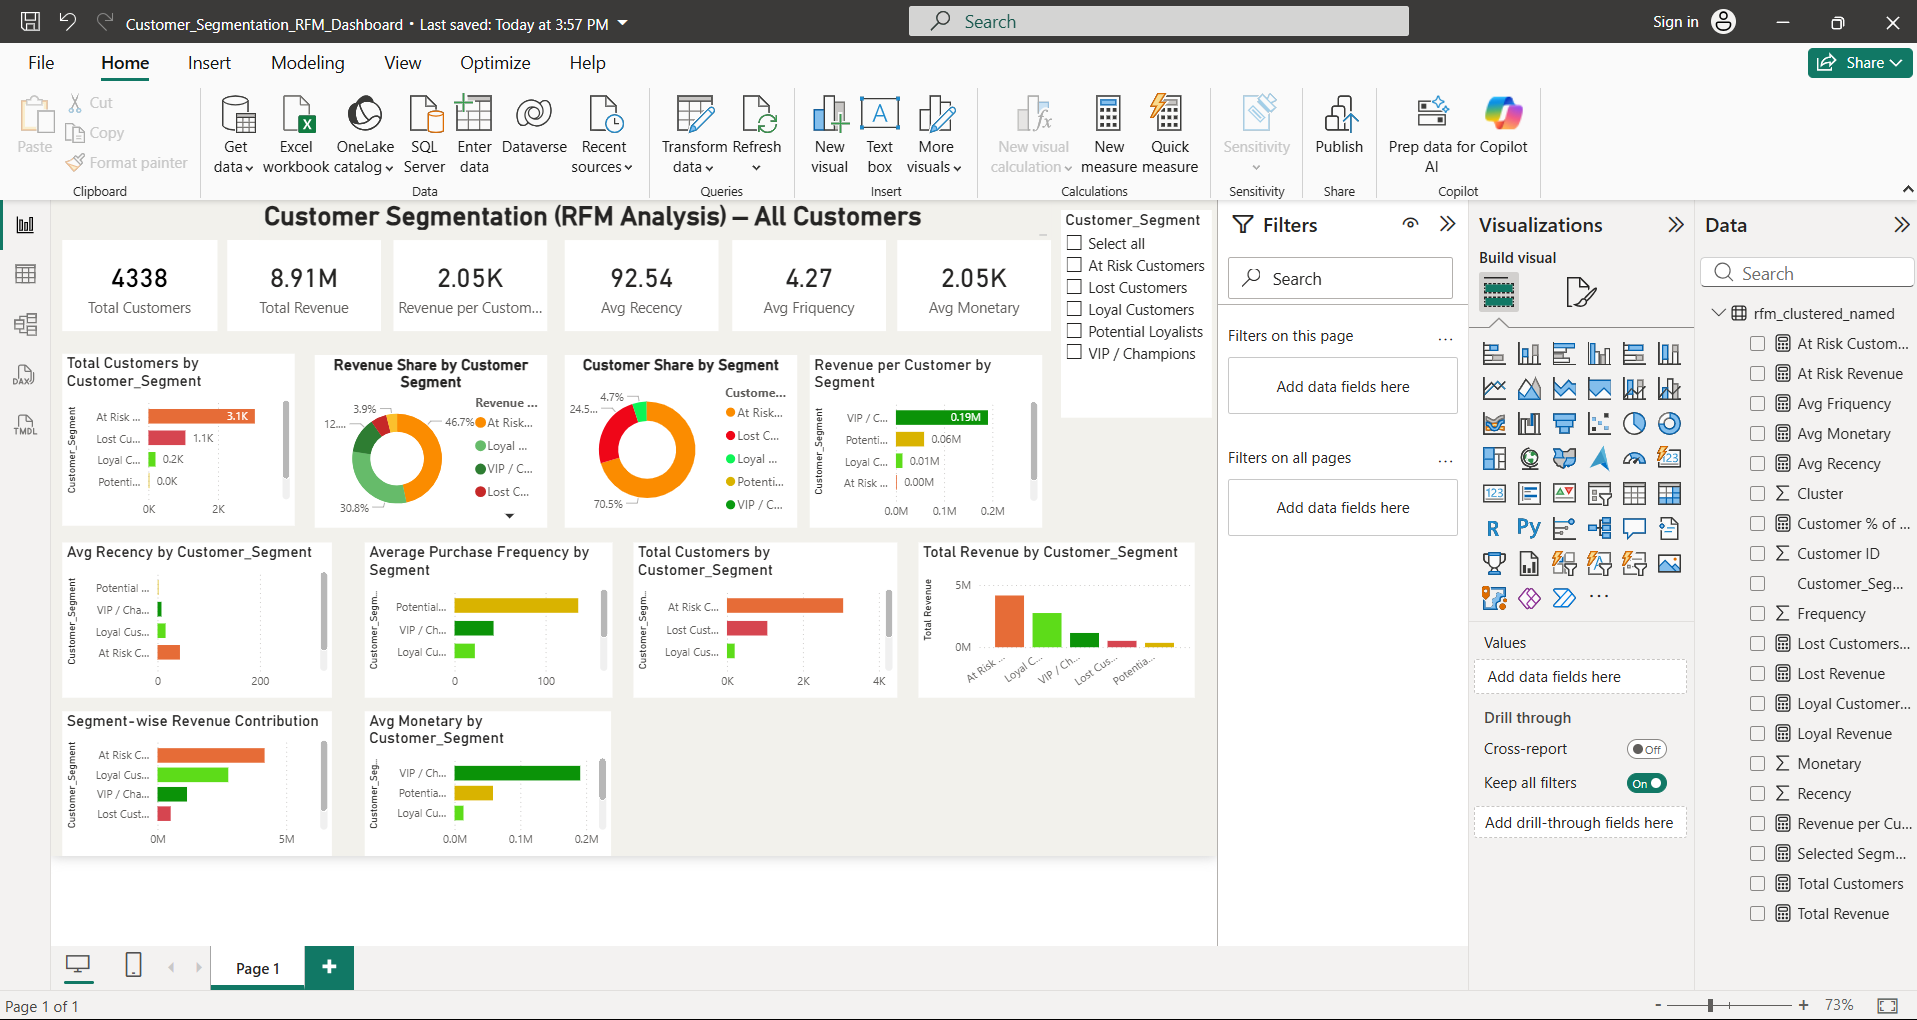

Layout of this report page (visuals, bound fields, positions):
{"tool":"powerbi","page":{"name":"Page 1","canvas":[1280,720],"ordinal":0},"visuals":[{"type":"card","fields":{"Values":["rfm_clustered_named.Total Customers"]},"box":[12.3,43.9,170.2,100.2],"z":0},{"type":"card","fields":{"Values":["rfm_clustered_named.Total Revenue"]},"box":[193.5,43.9,168.8,100.2],"z":1000},{"type":"card","fields":{"Values":["rfm_clustered_named.Avg Recency"]},"box":[564,43.9,168.8,100.2],"z":2000},{"type":"clusteredBarChart","fields":{"Category":["rfm_clustered_named.Customer_Segment"],"Y":["rfm_clustered_named.Total Customers"]},"box":[12.3,168.8,255,189],"z":3000},{"type":"clusteredBarChart","title":"Segment-wise Revenue Contribution","fields":{"Category":["rfm_clustered_named.Customer_Segment"],"Y":["rfm_clustered_named.Total Revenue"]},"box":[12.3,561.2,296.4,159.2],"z":4000},{"type":"card","fields":{"Values":["rfm_clustered_named.Avg Friquency"]},"box":[747.9,43.9,168.8,100.2],"z":5000},{"type":"clusteredBarChart","fields":{"Category":["rfm_clustered_named.Customer_Segment"],"Y":["rfm_clustered_named.Avg Monetary"]},"box":[344.4,561.2,270.3,159.2],"z":6000},{"type":"donutChart","title":"Revenue Share by Customer Segment","fields":{"Category":["rfm_clustered_named.Customer_Segment"],"Y":["rfm_clustered_named.Total Revenue"]},"box":[289.5,170.2,255.2,189.4],"z":7000},{"type":"card","fields":{"Values":["rfm_clustered_named.Revenue per Customer"]},"box":[376,43.9,168.8,100.2],"z":8000},{"type":"clusteredBarChart","title":"Revenue per Customer by Segment","fields":{"Category":["rfm_clustered_named.Customer_Segment"],"Y":["rfm_clustered_named.Revenue per Customer"]},"box":[832.9,170.2,255.2,189.4],"z":9000},{"type":"clusteredBarChart","fields":{"Category":["rfm_clustered_named.Customer_Segment"],"Y":["rfm_clustered_named.Avg Recency"]},"box":[12.3,376,296.4,170.2],"z":10000},{"type":"clusteredBarChart","title":"Average Purchase Frequency by Segment","fields":{"Category":["rfm_clustered_named.Customer_Segment"],"Y":["rfm_clustered_named.Avg Friquency"]},"box":[344.4,376,271.7,170.2],"z":11000},{"type":"card","fields":{"Values":["rfm_clustered_named.Avg Monetary"]},"box":[929,43.9,168.8,100.2],"z":12000},{"type":"donutChart","title":"Customer Share by Segment","fields":{"Category":["rfm_clustered_named.Customer_Segment"],"Y":["rfm_clustered_named.Total Customers"]},"box":[564,170.2,255.2,189.4],"z":13000},{"type":"clusteredColumnChart","fields":{"Category":["rfm_clustered_named.Customer_Segment"],"Y":["rfm_clustered_named.Total Revenue"]},"box":[952.3,376,303.3,170.2],"z":14000},{"type":"clusteredBarChart","fields":{"Category":["rfm_clustered_named.Customer_Segment"],"Y":["rfm_clustered_named.Total Customers"]},"box":[639.5,376,289.5,170.2],"z":15000},{"type":"listSlicer","fields":{"Values":["rfm_clustered_named.Customer_Segment"]},"box":[1109,11.4,165.3,228.1],"z":16000},{"type":"textbox","box":[229.2,0,868.6,43.9],"z":16001}]}

Visuals, with their boxes on the page's 1280x720 design canvas (x1, y1, x2, y2). These are canvas units, not pixel positions in the 1917x1020 screenshot, which may show the page scaled, cropped or inside an application window:
card - rfm_clustered_named.Total Customers: BBox(12, 44, 182, 144)
card - rfm_clustered_named.Total Revenue: BBox(194, 44, 362, 144)
card - rfm_clustered_named.Avg Recency: BBox(564, 44, 733, 144)
clusteredBarChart - rfm_clustered_named.Customer_Segment x rfm_clustered_named.Total Customers: BBox(12, 169, 267, 358)
"Segment-wise Revenue Contribution" clusteredBarChart: BBox(12, 561, 309, 720)
card - rfm_clustered_named.Avg Friquency: BBox(748, 44, 917, 144)
clusteredBarChart - rfm_clustered_named.Customer_Segment x rfm_clustered_named.Avg Monetary: BBox(344, 561, 615, 720)
"Revenue Share by Customer Segment" donutChart: BBox(290, 170, 545, 360)
card - rfm_clustered_named.Revenue per Customer: BBox(376, 44, 545, 144)
"Revenue per Customer by Segment" clusteredBarChart: BBox(833, 170, 1088, 360)
clusteredBarChart - rfm_clustered_named.Customer_Segment x rfm_clustered_named.Avg Recency: BBox(12, 376, 309, 546)
"Average Purchase Frequency by Segment" clusteredBarChart: BBox(344, 376, 616, 546)
card - rfm_clustered_named.Avg Monetary: BBox(929, 44, 1098, 144)
"Customer Share by Segment" donutChart: BBox(564, 170, 819, 360)
clusteredColumnChart - rfm_clustered_named.Customer_Segment x rfm_clustered_named.Total Revenue: BBox(952, 376, 1256, 546)
clusteredBarChart - rfm_clustered_named.Customer_Segment x rfm_clustered_named.Total Customers: BBox(640, 376, 929, 546)
listSlicer - rfm_clustered_named.Customer_Segment: BBox(1109, 11, 1274, 240)
textbox: BBox(229, 0, 1098, 44)
